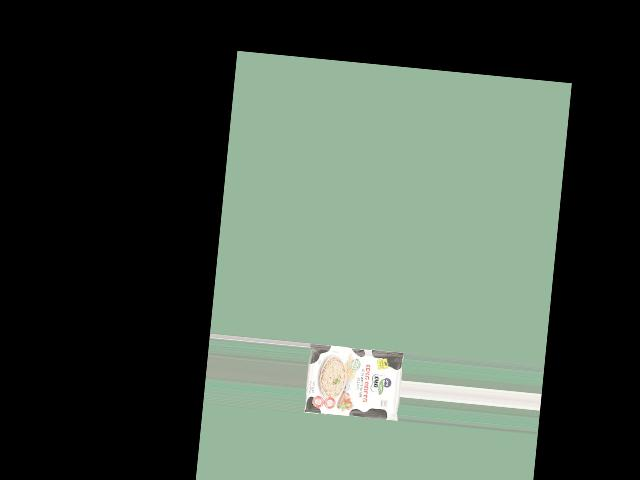cheese: (307, 342, 397, 432)
